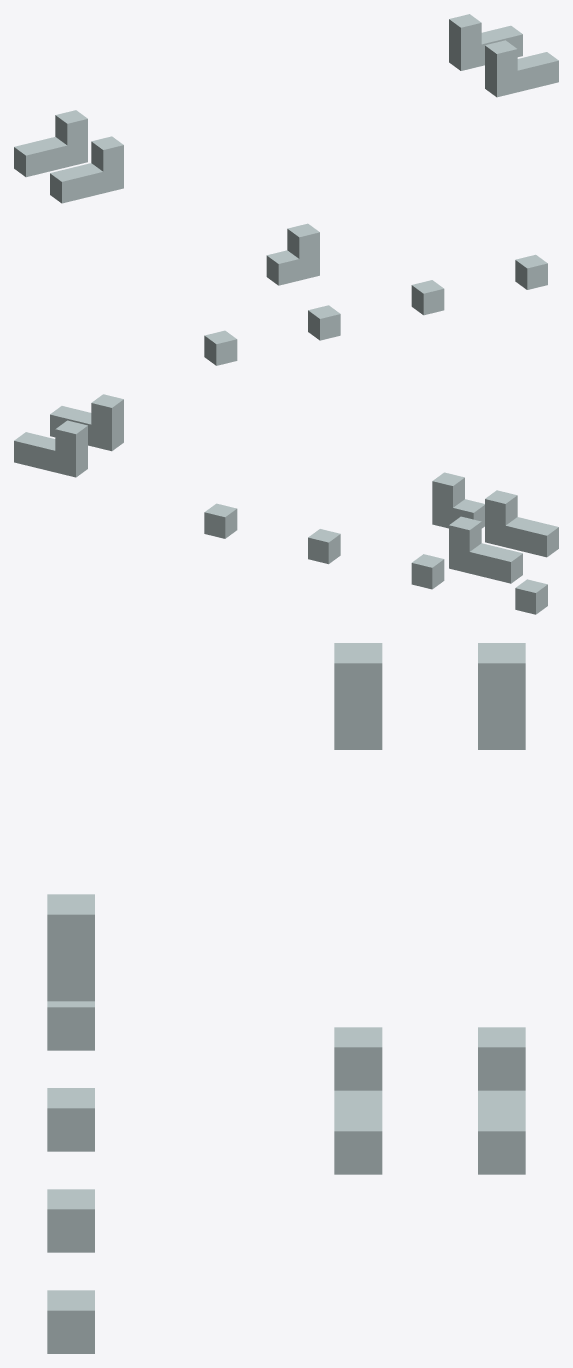
3 views of the same model, one above another, from view 1: azimuth 30°, elevation 25°; view 2: azimuth 150°, elevation 25°; view 3: azimuth 270°, elevation 25° (orthographic). The views are drawn at different scales.
Visible parts, largest first — view 1: 125.1; view 2: 125.1; view 3: 125.1.
Boxes of the visible parts, left/top/right/bottom form: 125.1: left=14, top=14, right=558, bottom=365; 125.1: left=14, top=394, right=558, bottom=614; 125.1: left=47, top=643, right=525, bottom=1353.
Size of the model in its own units: 240 by 80 by 100.
Materials: 1 (1 with a texture image).
